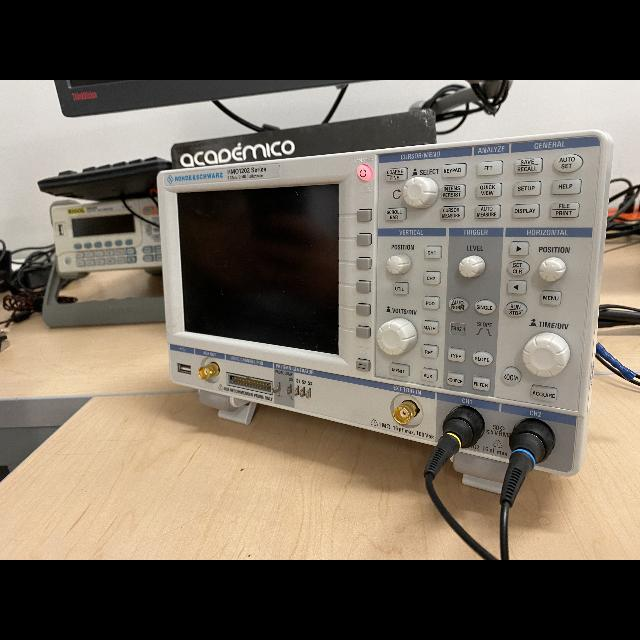Digital-Oscilloscope: (158, 130, 613, 558)
